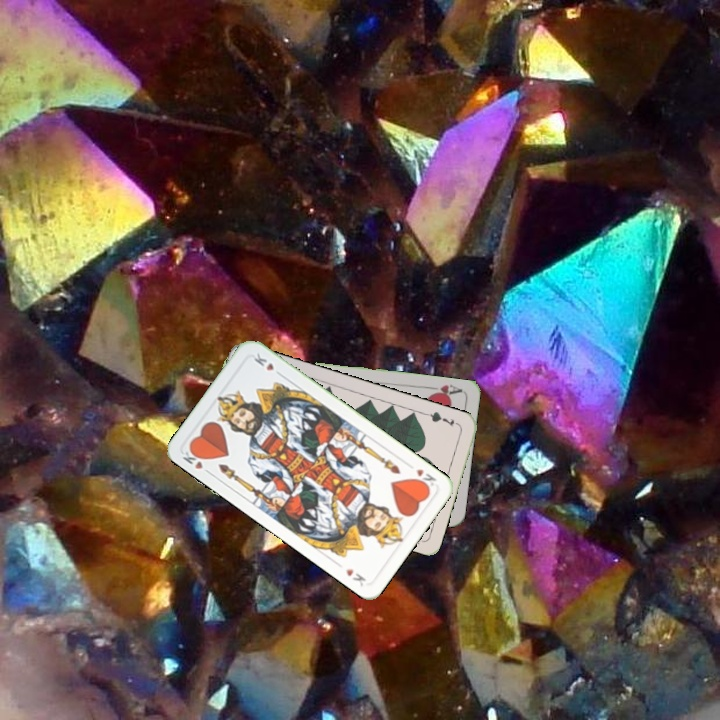G7: (422, 408, 462, 429)
HA: (424, 381, 465, 400)
HK: (178, 443, 214, 477), (411, 465, 439, 493)
